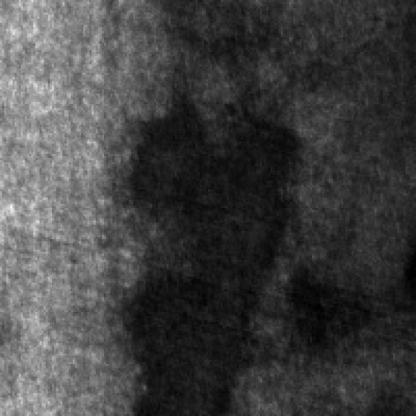patches: (120, 96, 300, 410), (285, 264, 383, 354)
